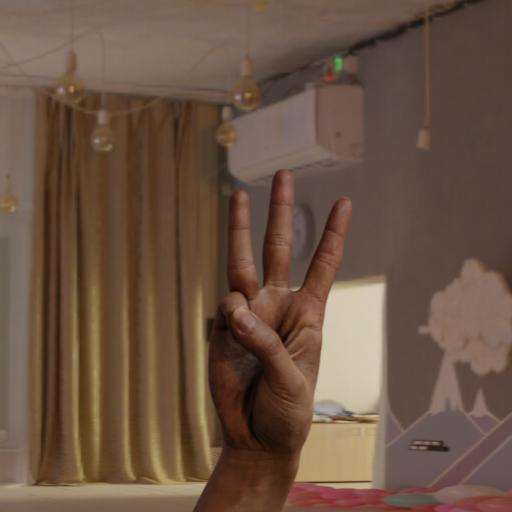W: (200, 166, 357, 454)
